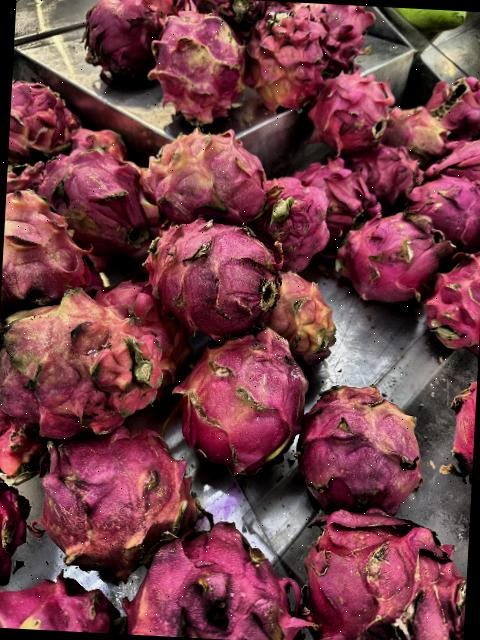buah-naga-belum-matang: (18, 434, 187, 566), (0, 293, 164, 422), (294, 370, 424, 500), (0, 178, 99, 314), (140, 128, 271, 224), (154, 6, 248, 118), (268, 277, 344, 374), (392, 104, 456, 159)
buah-naga-matang: (303, 492, 471, 640), (123, 526, 316, 640), (136, 212, 284, 332), (183, 336, 304, 470), (40, 144, 160, 254), (329, 200, 442, 296), (234, 9, 321, 110), (73, 0, 157, 80), (318, 65, 395, 149), (261, 175, 332, 259), (425, 246, 480, 341), (306, 160, 378, 226), (416, 173, 480, 241), (9, 78, 66, 148), (353, 145, 425, 194), (306, 3, 366, 60), (422, 74, 480, 131), (432, 133, 480, 181)
